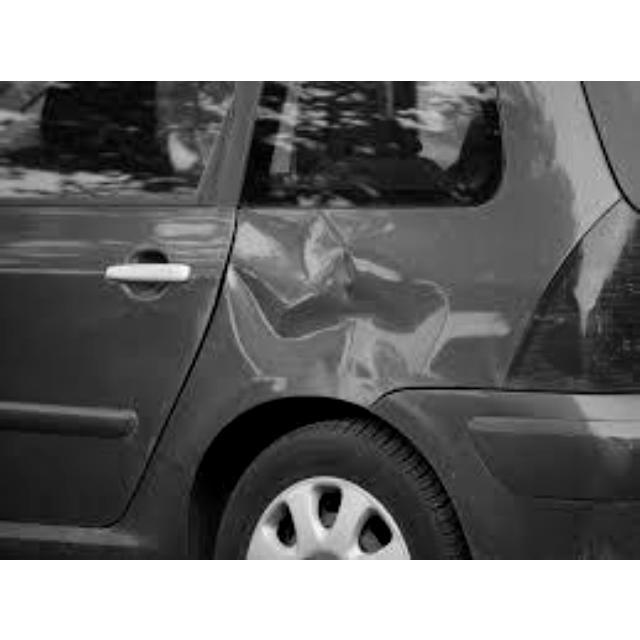quaterpanel-dent: (218, 204, 578, 426)
